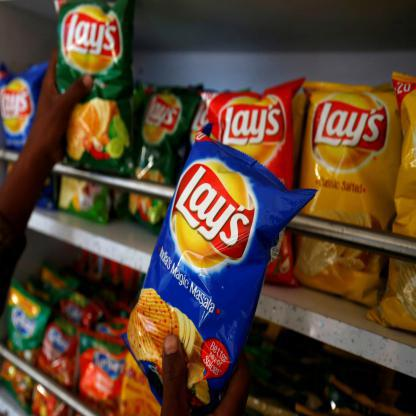chile_limon: (58, 0, 129, 174), (134, 84, 180, 219)
classicsalted: (305, 85, 393, 303), (397, 77, 415, 330)
indian_magic_masala: (128, 130, 293, 412), (1, 68, 40, 160)
tangy_tomato: (201, 91, 295, 189)
